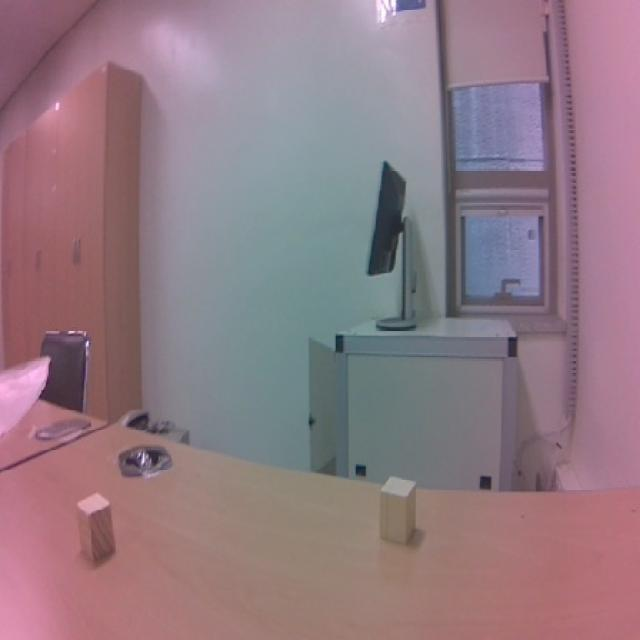obstacle: (370, 470, 428, 556), (73, 484, 123, 565)
